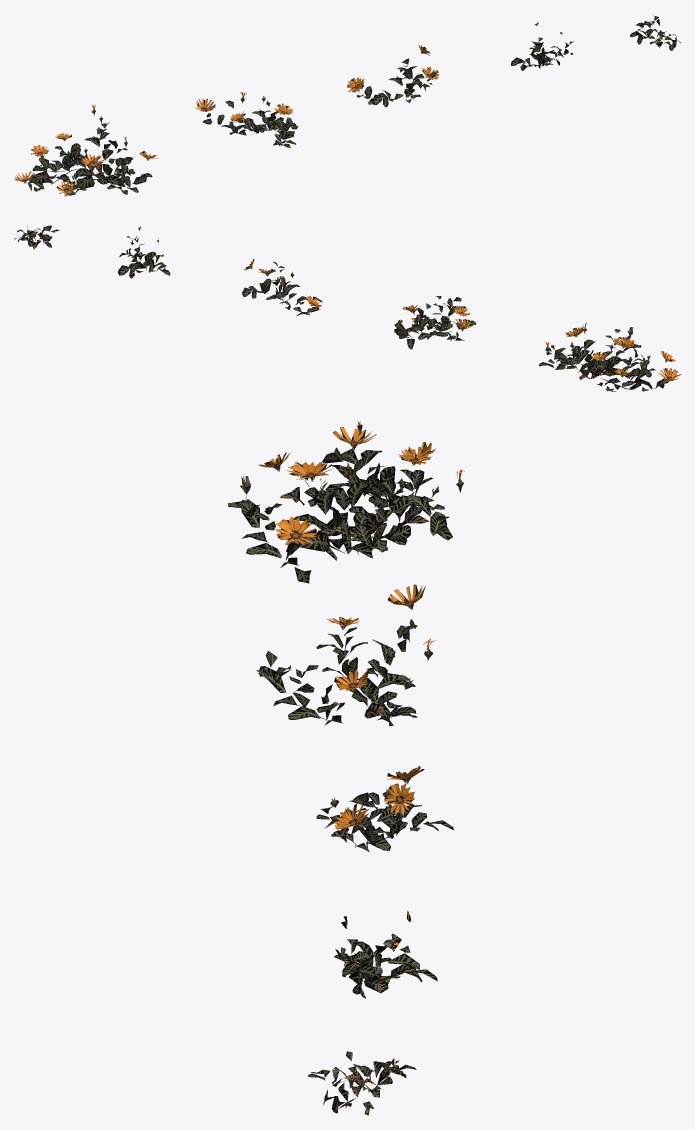
File: flower_ursinia.glb
The picture shows the model from 3 angles, top to bottom: view 1: azimuth 30°, elevation 25°; view 2: azimuth 150°, elevation 25°; view 3: azimuth 270°, elevation 25°; orthographic projection. The views are drawn at different scales.
Parts seen in each view (by area): view 1: flower_ursinia_a_LOD0, flower_ursinia_b_LOD0, flower_ursinia_c_LOD0, flower_ursinia_d_LOD0, flower_ursinia_e_LOD0; view 2: flower_ursinia_a_LOD0, flower_ursinia_b_LOD0, flower_ursinia_c_LOD0, flower_ursinia_d_LOD0, flower_ursinia_e_LOD0; view 3: flower_ursinia_a_LOD0, flower_ursinia_b_LOD0, flower_ursinia_c_LOD0, flower_ursinia_d_LOD0, flower_ursinia_e_LOD0.
Part boxes in pixels (<box>): flower_ursinia_a_LOD0: <box>14,104,158,196</box>; flower_ursinia_b_LOD0: <box>195,92,298,147</box>; flower_ursinia_c_LOD0: <box>347,45,439,107</box>; flower_ursinia_d_LOD0: <box>511,22,574,70</box>; flower_ursinia_e_LOD0: <box>630,15,680,50</box>; flower_ursinia_a_LOD0: <box>538,323,680,391</box>; flower_ursinia_b_LOD0: <box>394,296,475,349</box>; flower_ursinia_c_LOD0: <box>242,259,322,316</box>; flower_ursinia_d_LOD0: <box>118,226,170,278</box>; flower_ursinia_e_LOD0: <box>14,225,59,249</box>; flower_ursinia_a_LOD0: <box>228,421,464,583</box>; flower_ursinia_b_LOD0: <box>256,584,435,726</box>; flower_ursinia_c_LOD0: <box>316,765,453,851</box>; flower_ursinia_d_LOD0: <box>334,910,437,998</box>; flower_ursinia_e_LOD0: <box>308,1051,416,1115</box>.
Size of the model in its own units: 2.19 by 0.1717 by 0.3433.
Materials: 1 (1 with a texture image).
